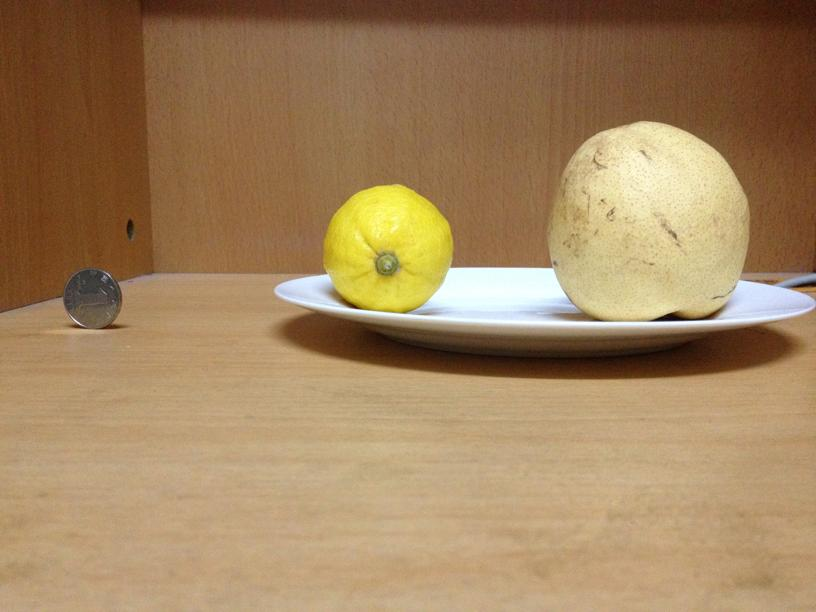coin: (62, 269, 121, 327)
lemon: (325, 181, 454, 310)
pear: (545, 115, 748, 317)
